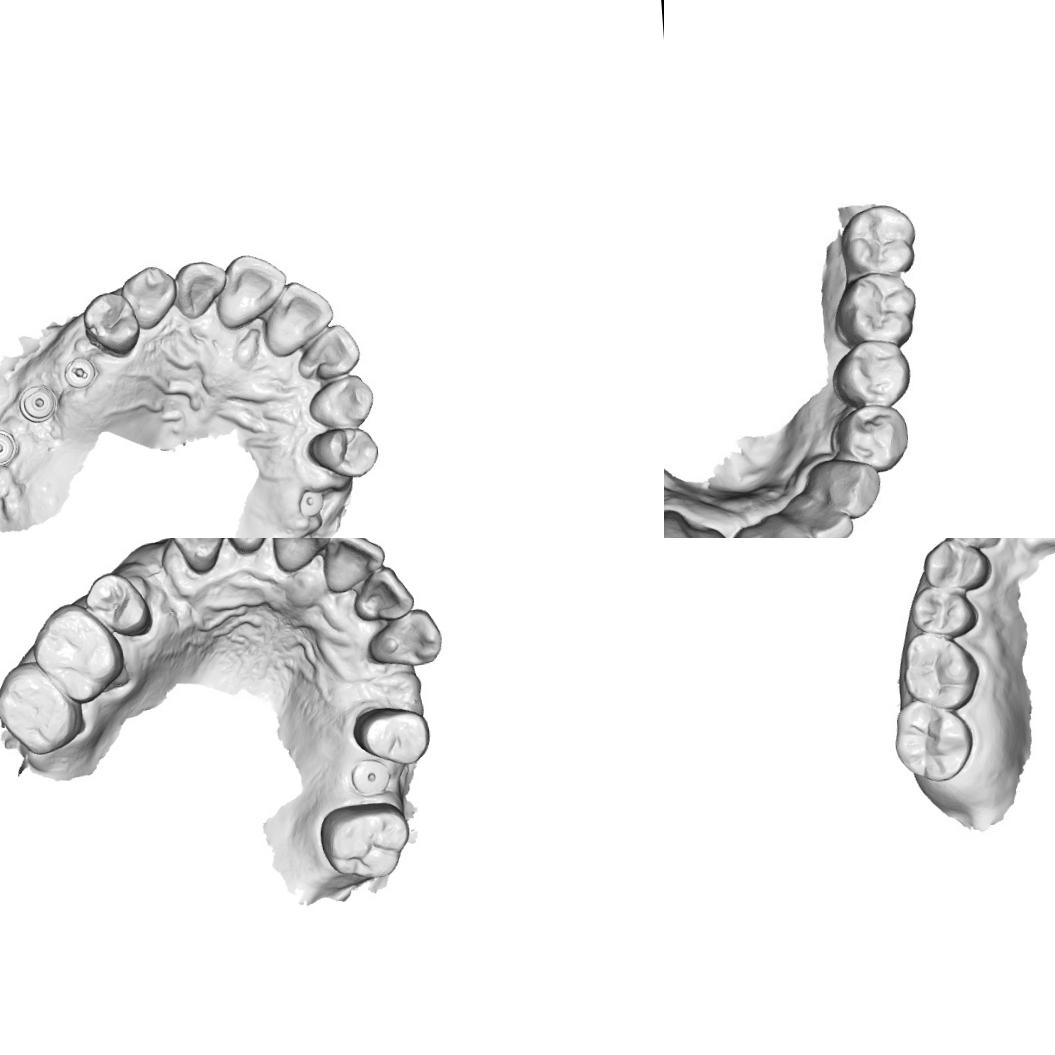canine: (364, 603, 444, 674), (805, 454, 881, 520), (119, 262, 179, 332), (305, 371, 376, 430), (165, 538, 228, 577), (946, 538, 1001, 553)
implant: (340, 758, 405, 802), (16, 382, 59, 425), (294, 486, 325, 518), (0, 426, 20, 469)
implant_minus: (60, 354, 98, 390)
incisor: (212, 250, 290, 330), (259, 278, 337, 358), (316, 538, 389, 601), (350, 559, 416, 626), (294, 320, 364, 382), (168, 258, 229, 320), (790, 492, 856, 538), (266, 538, 334, 577), (765, 514, 820, 538), (215, 538, 279, 557), (690, 521, 745, 538), (731, 524, 785, 538)
molar: (28, 598, 128, 706), (0, 654, 86, 758), (315, 798, 414, 884), (890, 694, 976, 784), (836, 268, 921, 353), (899, 628, 983, 713), (842, 201, 924, 283)
premolar: (830, 334, 919, 414), (343, 699, 434, 767), (831, 404, 914, 477), (82, 566, 154, 638), (79, 289, 143, 358), (304, 424, 382, 480), (907, 582, 980, 640), (919, 538, 994, 593)
